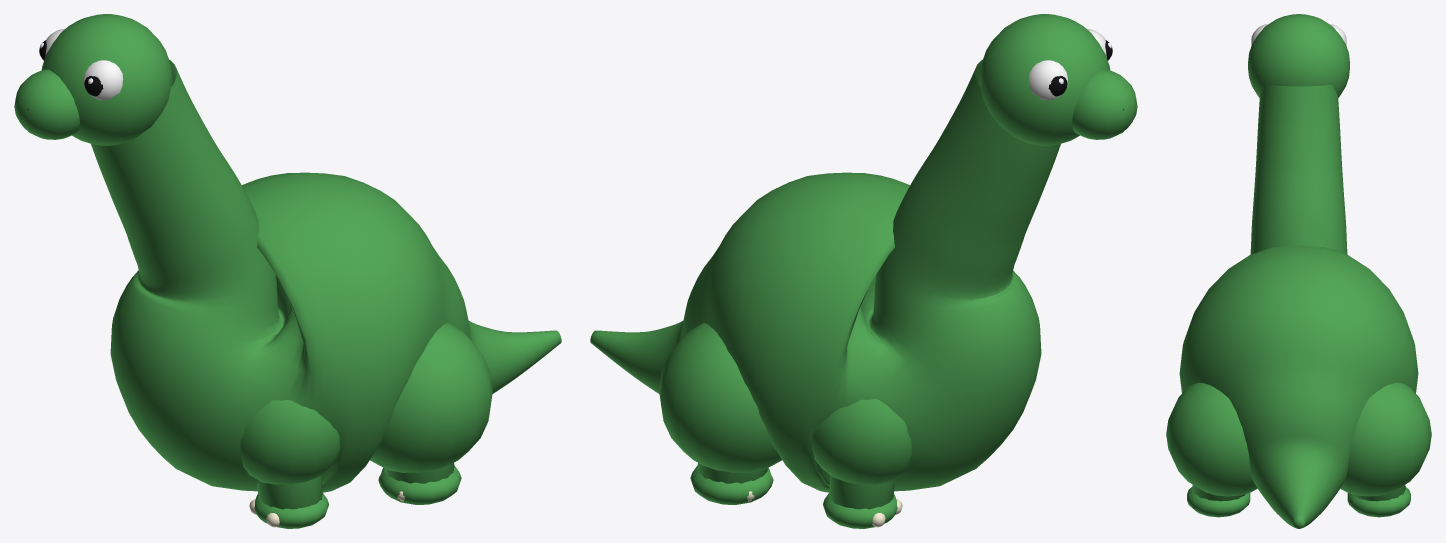
File: brachiosaurus.obj
The picture shows the model from 3 angles, left to right: view 1: azimuth 30°, elevation 25°; view 2: azimuth 150°, elevation 25°; view 3: azimuth 270°, elevation 25°; orthographic projection. The views are drawn at different scales.
Parts seen in each view (by area): view 1: body, haunch, head, snout, foot, leg, whitepartofeye; view 2: body, haunch, head, snout, foot, leg, whitepartofeye; view 3: body, haunch, head, foot, leg.
Part boxes in pixels (x1=…): body: x1=91, y1=59, x2=561, y2=492; haunch: x1=240, y1=323, x2=492, y2=484; head: x1=41, y1=14, x2=172, y2=145; snout: x1=14, y1=69, x2=79, y2=139; foot: x1=254, y1=465, x2=461, y2=528; leg: x1=257, y1=463, x2=454, y2=509; whitepartofeye: x1=45, y1=29, x2=123, y2=100; body: x1=590, y1=59, x2=1060, y2=492; haunch: x1=659, y1=323, x2=911, y2=484; head: x1=979, y1=14, x2=1110, y2=145; snout: x1=1072, y1=69, x2=1137, y2=139; foot: x1=690, y1=465, x2=897, y2=528; leg: x1=697, y1=463, x2=894, y2=509; whitepartofeye: x1=1028, y1=29, x2=1106, y2=100; body: x1=1179, y1=84, x2=1418, y2=528; haunch: x1=1166, y1=382, x2=1431, y2=496; head: x1=1248, y1=14, x2=1349, y2=97; foot: x1=1187, y1=487, x2=1410, y2=517; leg: x1=1192, y1=485, x2=1405, y2=501.
Bounding box in the file's own units: 8.97 × 8.07 × 4.9.
